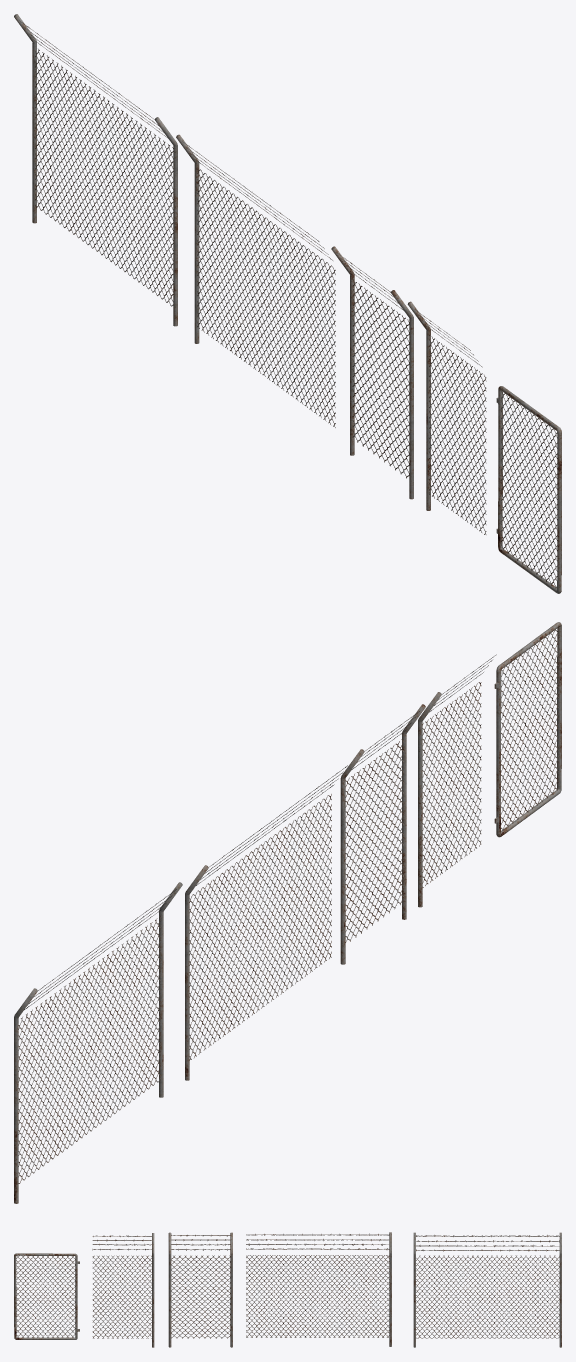
Rendered from modular_chain_link_fence_set.glb.
3 views of the same model, one above another, from view 1: azimuth 30°, elevation 25°; view 2: azimuth 150°, elevation 25°; view 3: azimuth 270°, elevation 25° (orthographic). The views are drawn at different scales.
Visible parts, largest first — view 1: Cube.002_0, Cylinder.007_4, Cube.008_3, Cube.005_1, Cube.007_2; view 2: Cube.002_0, Cylinder.007_4, Cube.005_1, Cube.008_3, Cube.007_2; view 3: Cube.002_0, Cylinder.007_4, Cube.005_1, Cube.008_3, Cube.007_2.
Part boxes in pixels (x1,y1,x2,y2): Cube.002_0: [14, 14, 177, 326]; Cylinder.007_4: [176, 134, 335, 427]; Cube.008_3: [496, 386, 561, 593]; Cube.005_1: [331, 246, 413, 499]; Cube.007_2: [407, 301, 486, 534]; Cube.002_0: [14, 882, 182, 1203]; Cylinder.007_4: [185, 765, 347, 1080]; Cube.005_1: [340, 704, 425, 964]; Cube.008_3: [494, 622, 561, 837]; Cube.007_2: [418, 654, 496, 907]; Cube.002_0: [413, 1232, 561, 1347]; Cylinder.007_4: [246, 1232, 391, 1346]; Cube.005_1: [168, 1232, 232, 1347]; Cube.008_3: [14, 1253, 79, 1339]; Cube.007_2: [92, 1233, 154, 1347].
Size of the model in its own units: 0.8553 by 6.9 by 31.15.
1 material, 1 textured.
